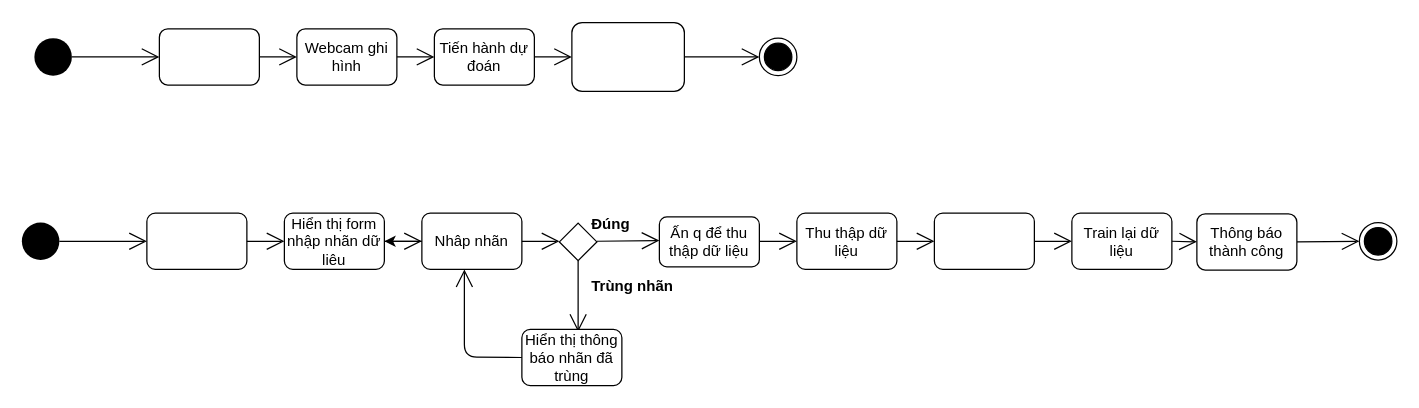
Some shapes in this 1419 by 408 pixel diagram are drawn without their labels. The box of each missing label's shape, as (x1, y1, x2, y2) in pixels:
Chọn thêm dữ liệu: (146, 212, 247, 269)
Hiển thị văn bản trên giao diên: (571, 21, 684, 91)
Khởi động ứng dụng: (158, 28, 259, 85)
Thêm vào dataset: (933, 212, 1034, 269)
